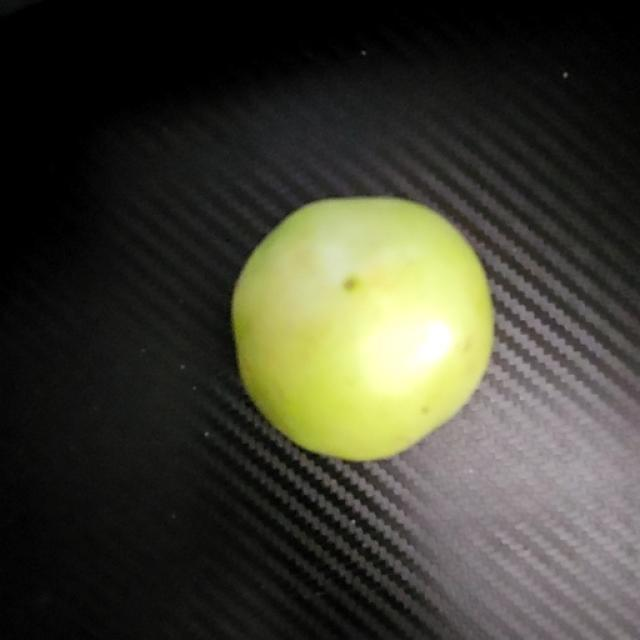Red: (229, 193, 496, 463)
